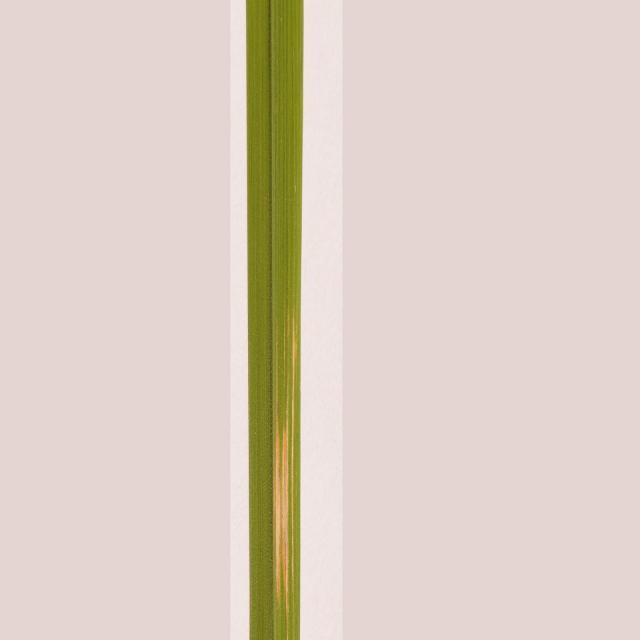leaf blight: (263, 315, 306, 621)
